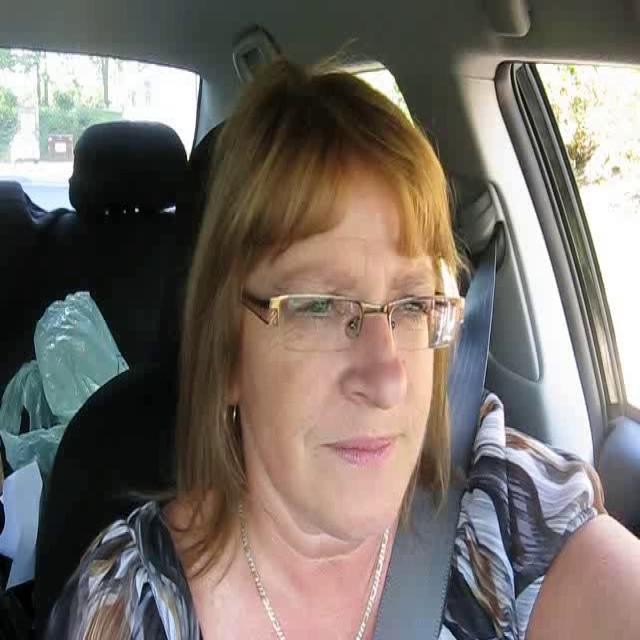close: (317, 424, 405, 471)
